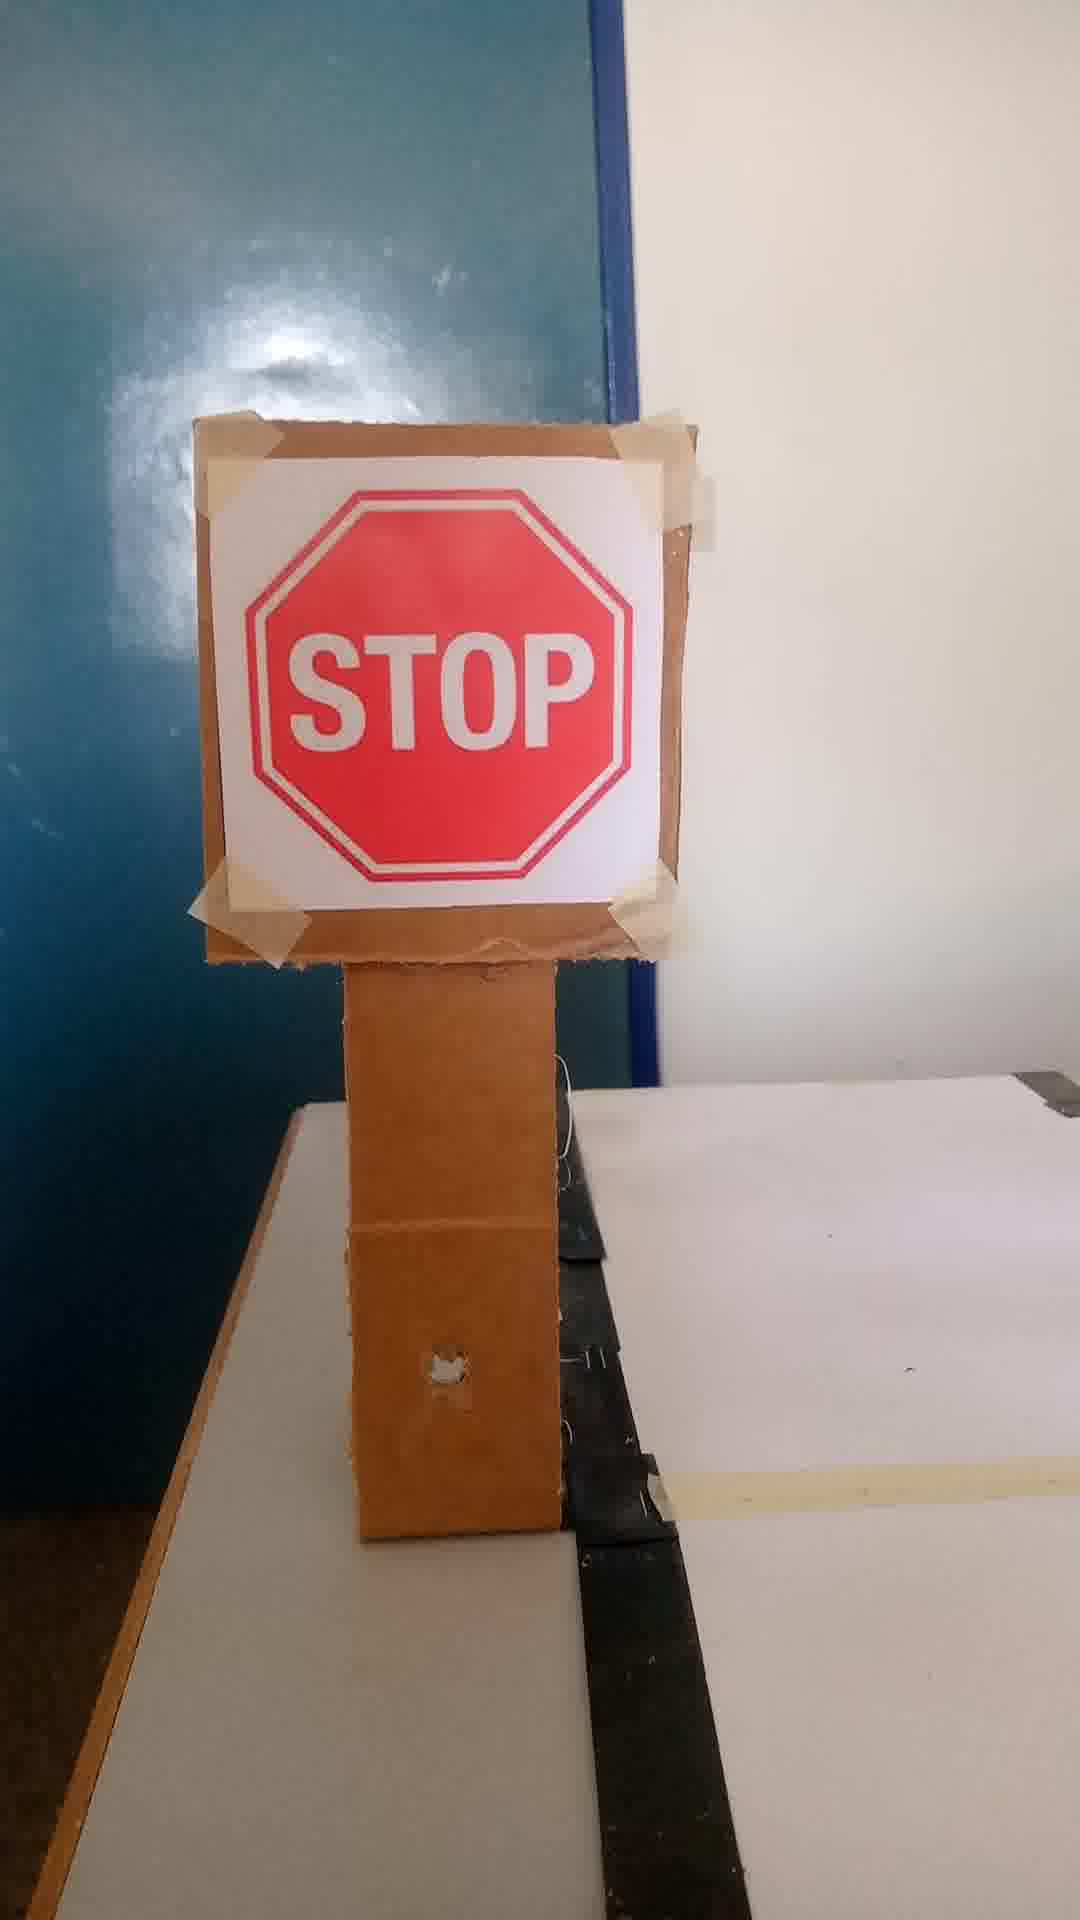panel101: (210, 454, 684, 943)
